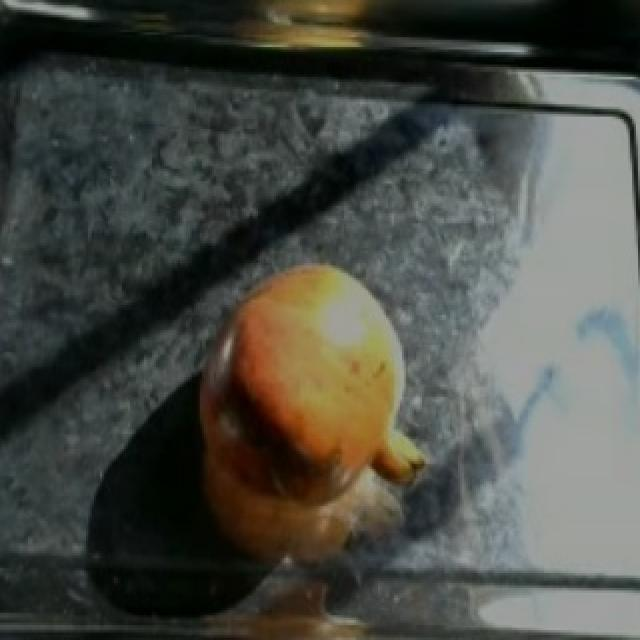fruit: (188, 233, 438, 501)
